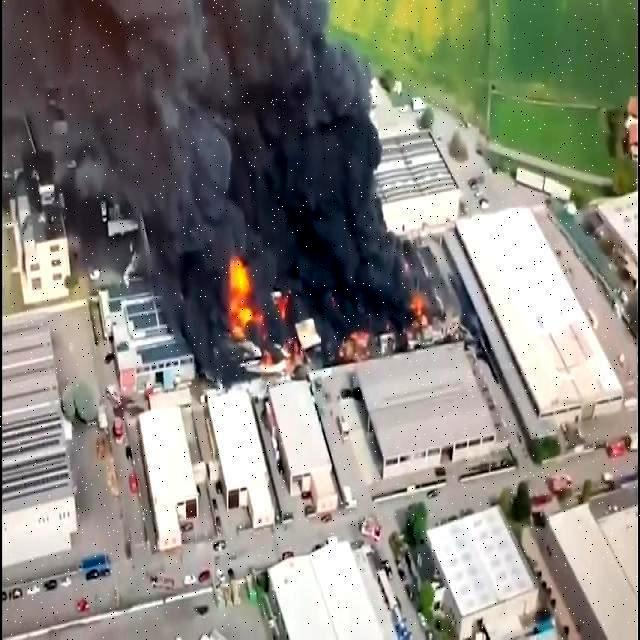no_helmet: (3, 9, 385, 230), (158, 232, 428, 372)
